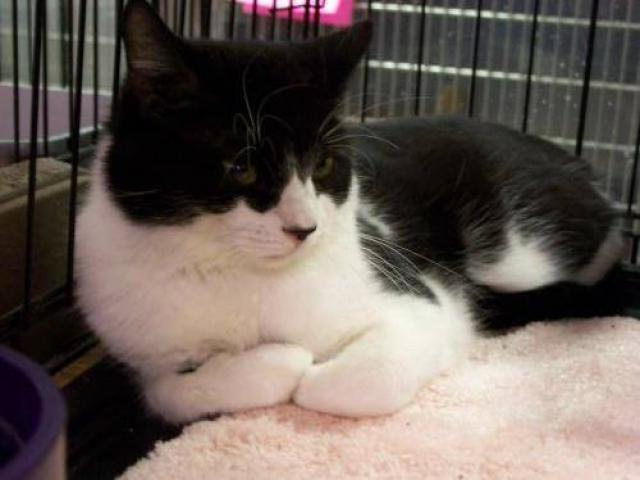cat: (61, 6, 639, 446)
